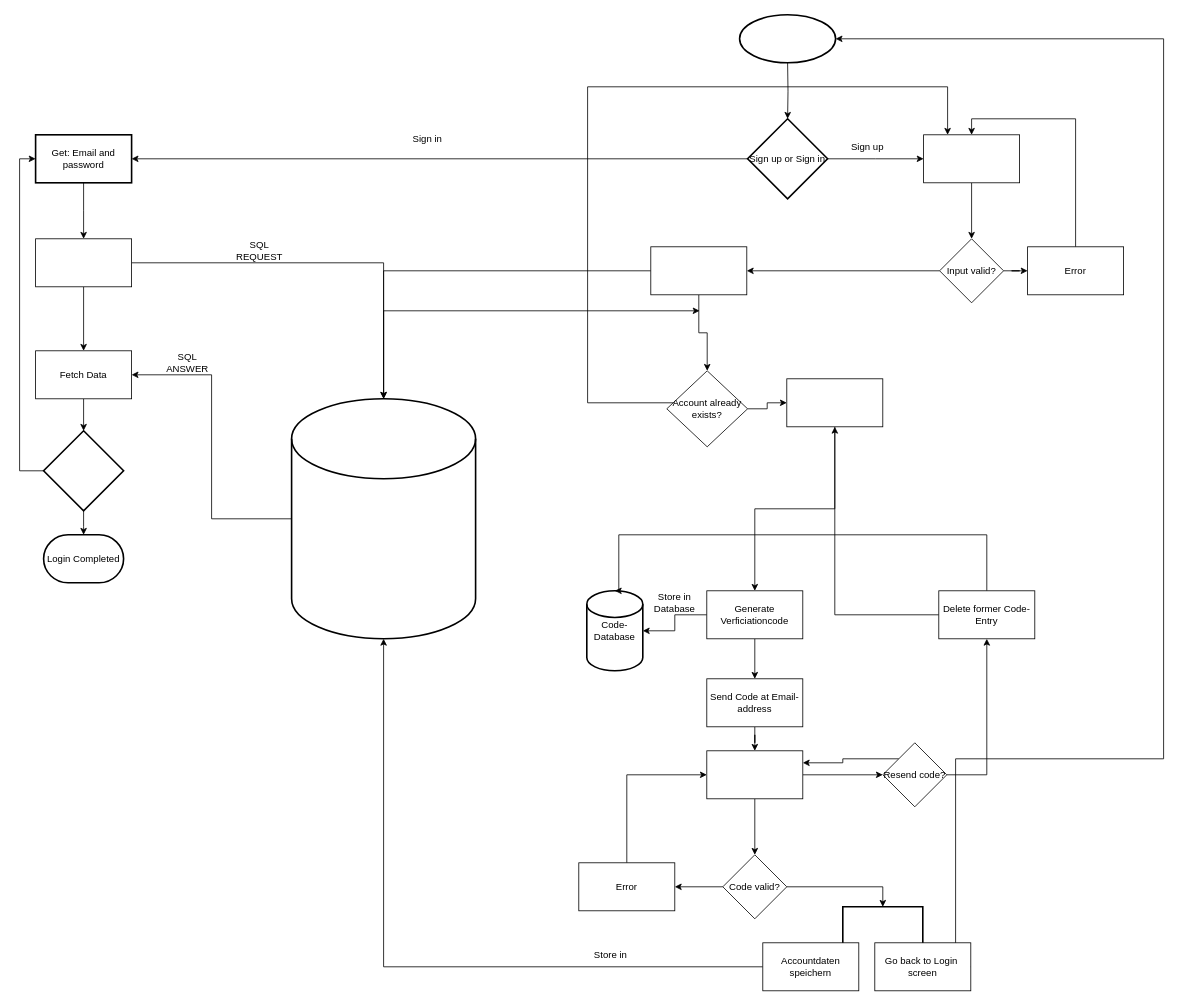
Some shapes in this 1184 by 1005 pixel diagram are drawn without their labels. Each missing label, with the centre of its shape:
Account-database: point (383, 518)
Check if account already exist: point (698, 270)
Email verification: point (834, 402)
Get Accountdata: point (83, 262)
Get: userinput code via website: point (754, 774)
Get: Username, password, Email: point (971, 158)
Is accountdata valid?: point (83, 470)
Login: point (787, 38)
